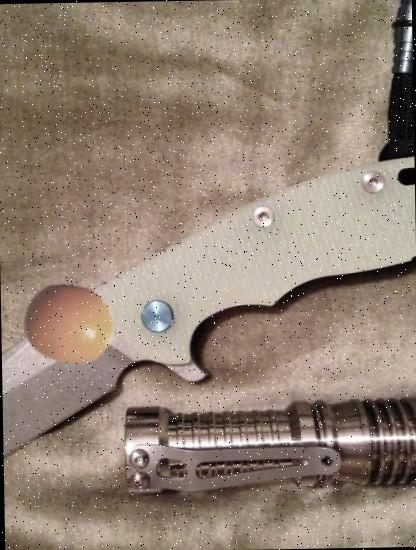Grapefruit: (22, 276, 116, 369)
